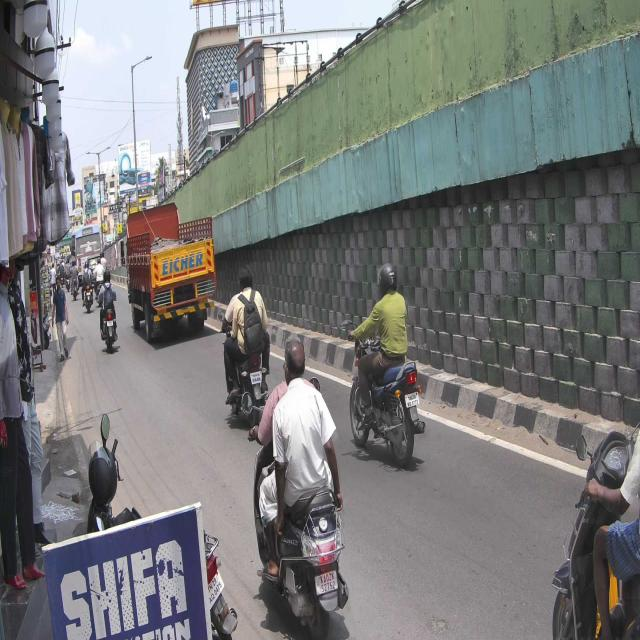double_rider: (267, 333, 347, 637)
single_rider: (350, 263, 427, 463)
